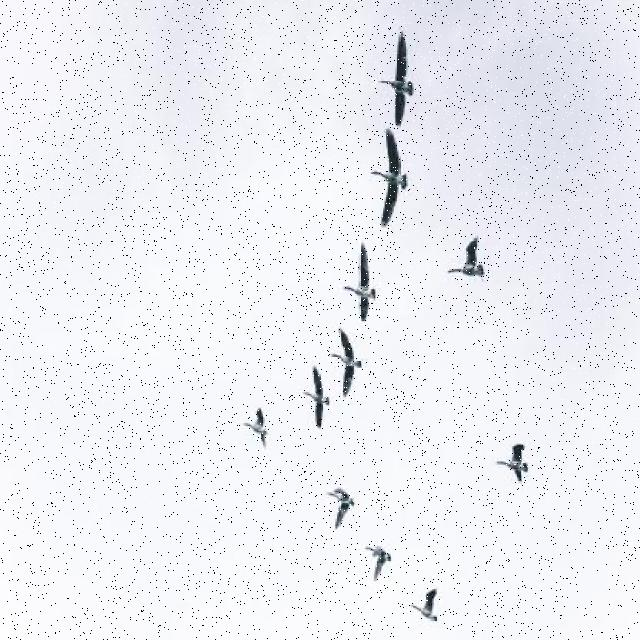bird: (372, 128, 408, 228), (378, 30, 414, 126), (344, 242, 376, 322), (330, 326, 361, 399), (448, 235, 484, 283), (303, 364, 329, 430), (496, 444, 529, 486), (327, 488, 355, 530), (364, 546, 392, 582), (244, 408, 267, 450), (410, 588, 438, 621)
